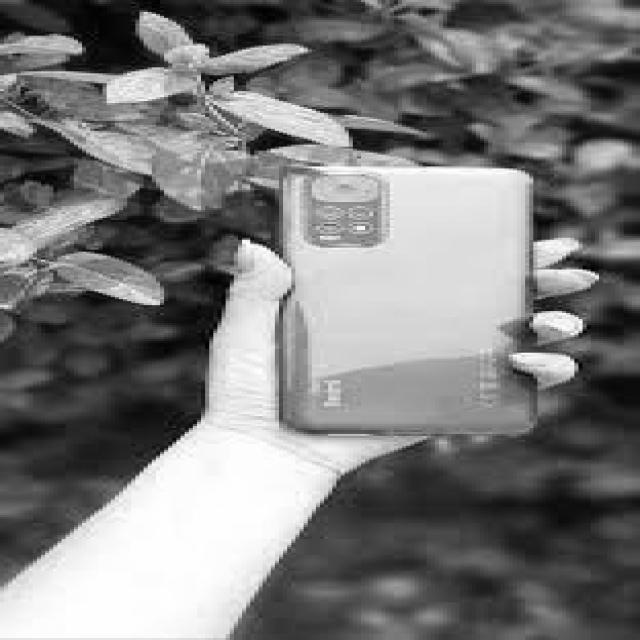No gun_phone: (284, 168, 534, 436)
